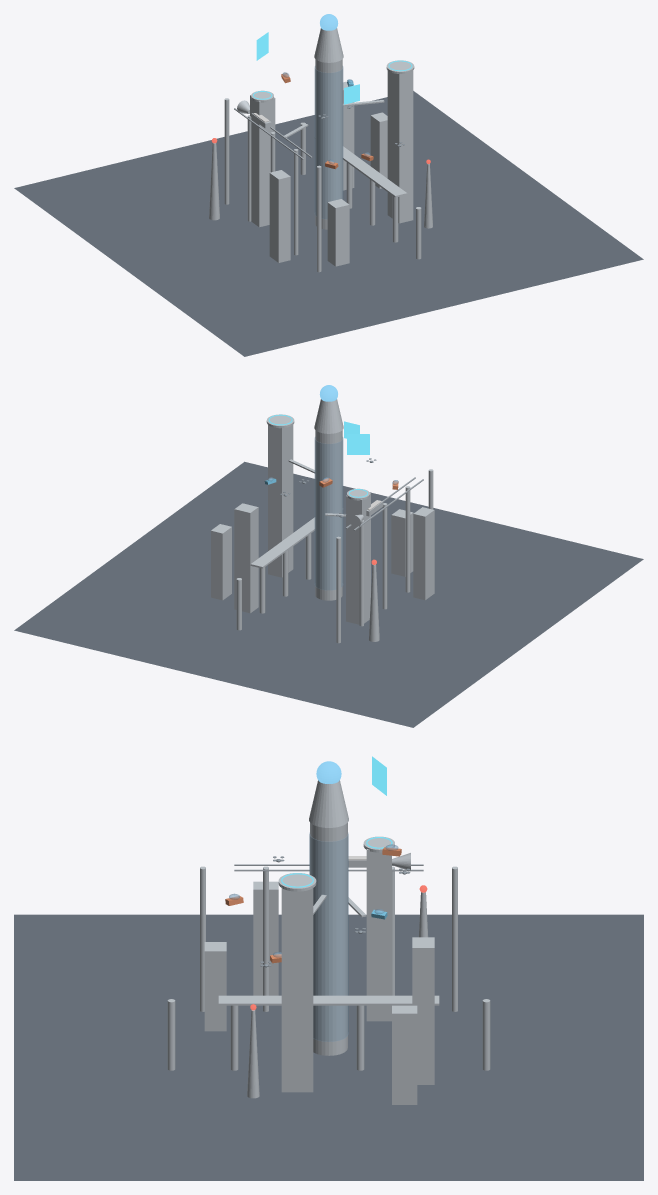
Rendered from TuringCity.glb.
3 renders of one model, top to bottom at view 1: azimuth 30°, elevation 25°; view 2: azimuth 150°, elevation 25°; view 3: azimuth 270°, elevation 25°, orthographic. The views are drawn at different scales.
Visible parts, largest first — view 1: City_Ground, Central_Tower, Central_Tower_Glass, Tower_3, Tower_2, Building_1, Building_3, Building_4, Elevated_Highway, Central_Tower_Top, Building_2, Rail_Support_5 (+4 smaller); view 2: City_Ground, Central_Tower, Central_Tower_Glass, Tower_3, Tower_2, Building_2, Building_1, Building_4, Building_3, Elevated_Highway, Central_Tower_Top, Rail_Support_2 (+4 smaller); view 3: City_Ground, Central_Tower, Central_Tower_Glass, Tower_3, Tower_2, Building_2, Building_4, Building_1, Building_3, Elevated_Highway, Central_Tower_Top, Rail_Support_5 (+5 smaller).
Boxes of the visible parts, x1,y1,x2,y2 form: City_Ground: (14,91,643,356); Central_Tower: (315,59,342,229); Central_Tower_Glass: (314,66,343,219); Tower_3: (387,70,413,223); Tower_2: (250,95,275,227); Building_1: (269,170,290,262); Building_3: (327,199,349,266); Building_4: (370,112,387,188); Elevated_Highway: (343,146,407,197); Central_Tower_Top: (314,28,343,62); Building_2: (343,81,354,190); Rail_Support_5: (224,98,229,204); City_Ground: (14,461,643,727); Central_Tower: (315,430,342,600); Central_Tower_Glass: (314,437,343,590); Tower_3: (268,424,293,577); Tower_2: (346,493,370,624); Building_2: (234,503,258,613); Building_1: (413,507,434,600); Building_4: (211,524,231,600); Building_3: (391,509,413,576); Elevated_Highway: (250,517,314,568); Central_Tower_Top: (314,399,343,433); Rail_Support_2: (405,486,410,592); City_Ground: (14,914,643,1180); Central_Tower: (310,822,347,1055); Central_Tower_Glass: (309,833,348,1041); Tower_3: (281,887,313,1092); Tower_2: (366,849,391,1021); Building_2: (412,937,434,1084); Building_4: (392,1005,417,1104); Building_1: (253,881,278,995); Building_3: (204,942,226,1031); Elevated_Highway: (218,995,439,1005); Central_Tower_Top: (309,780,348,827); Rail_Support_5: (452,866,457,1011).
Bounding box in the file's own units: 100 × 50 × 100.
